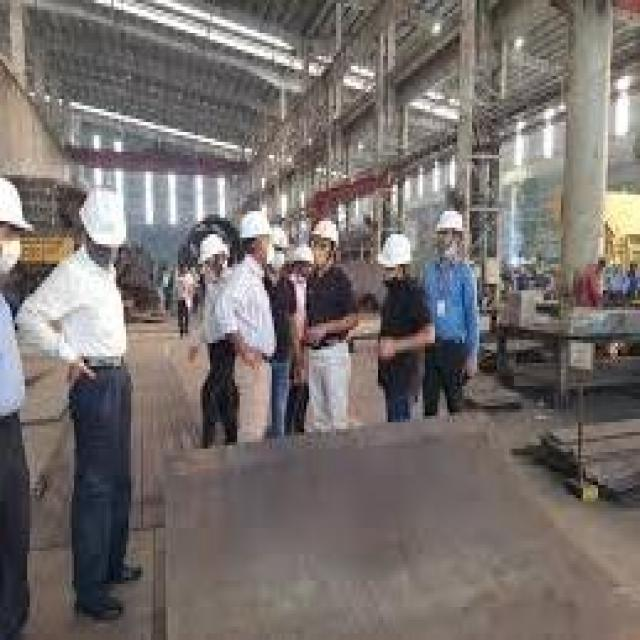safety_helmet: (69, 174, 135, 257), (0, 164, 39, 247), (229, 201, 279, 254), (370, 224, 417, 277), (430, 201, 472, 247), (190, 227, 232, 270), (306, 211, 345, 254)
